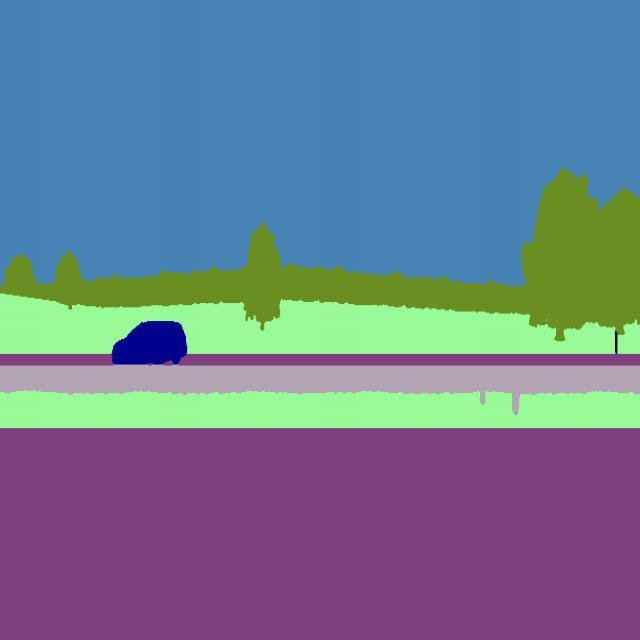safe: (111, 320, 190, 372)
